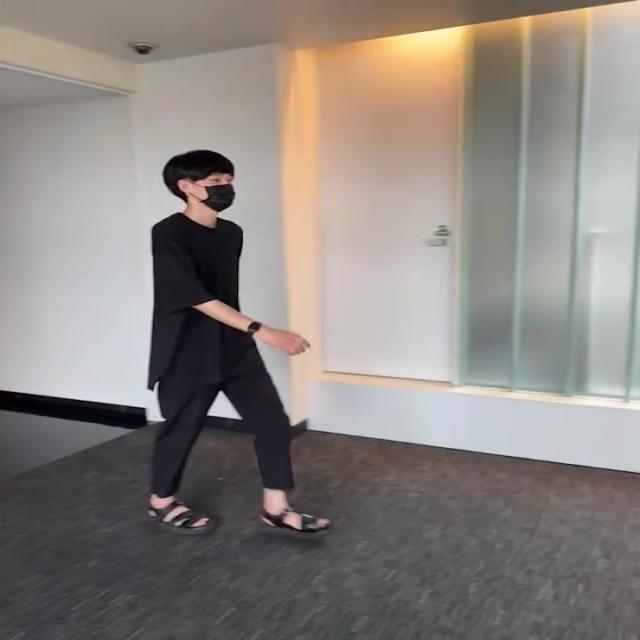direk: (135, 147, 333, 543)
